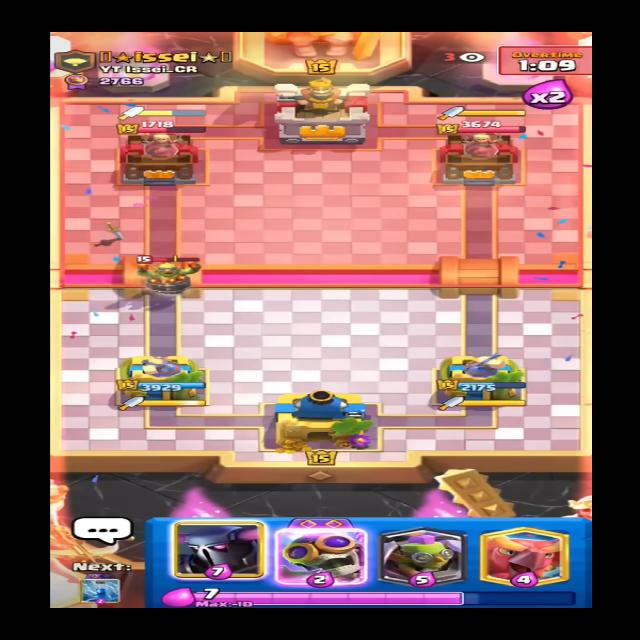Goblindemolisher: (133, 250, 210, 297)
